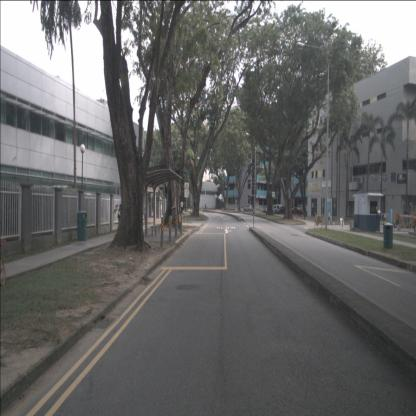human-pedestrian-adult: (180, 200, 184, 214), (204, 202, 207, 211)
vehicle-car: (270, 204, 282, 214), (275, 206, 288, 215), (262, 204, 274, 213), (244, 204, 254, 213), (291, 207, 302, 215)
